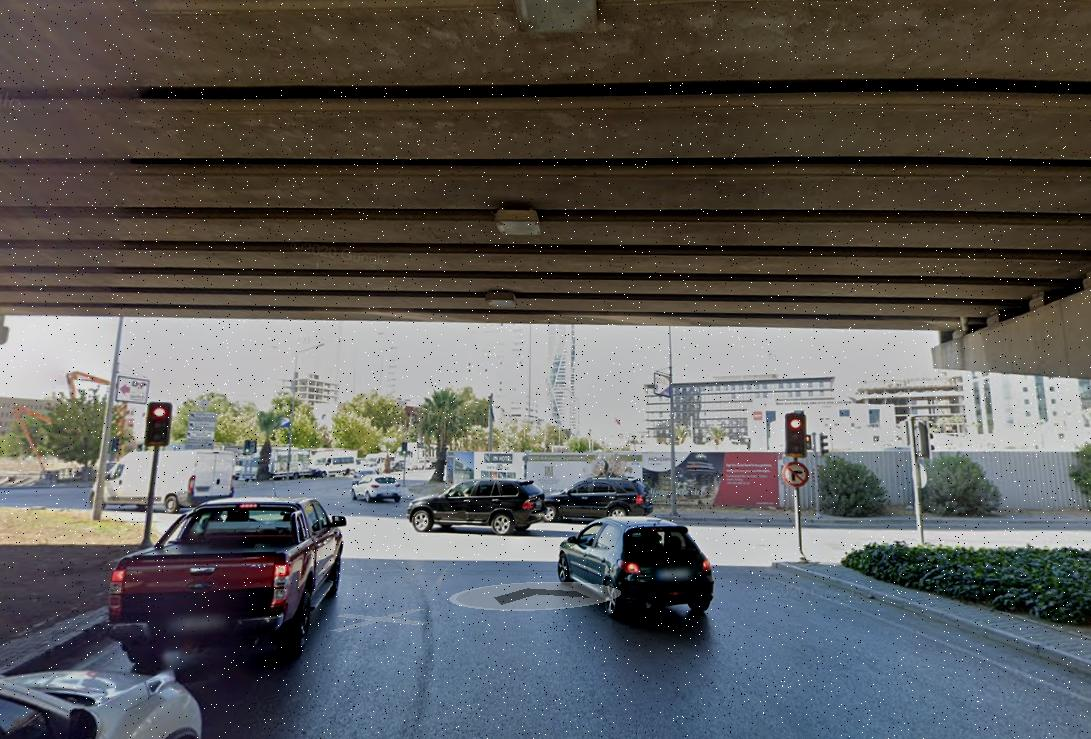redlight: (785, 410, 808, 456), (147, 402, 171, 441)
rightturnsareforbidden: (783, 461, 809, 488)
